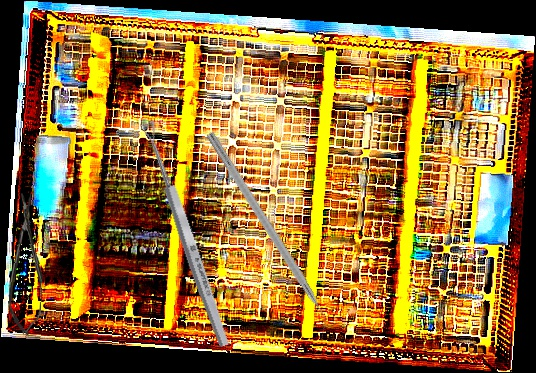Chopper: (194, 129, 339, 343)
Micro Scissor: (6, 191, 48, 336)
Surgical Spoon: (140, 119, 232, 349)
